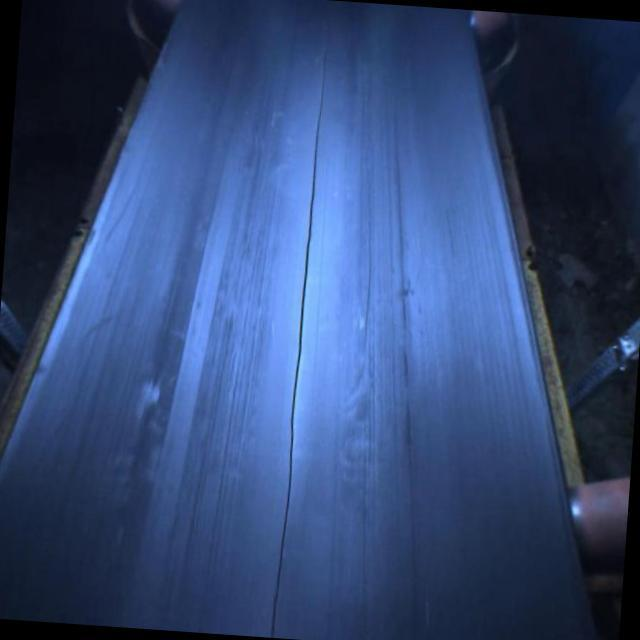Tear: (260, 49, 334, 638)
